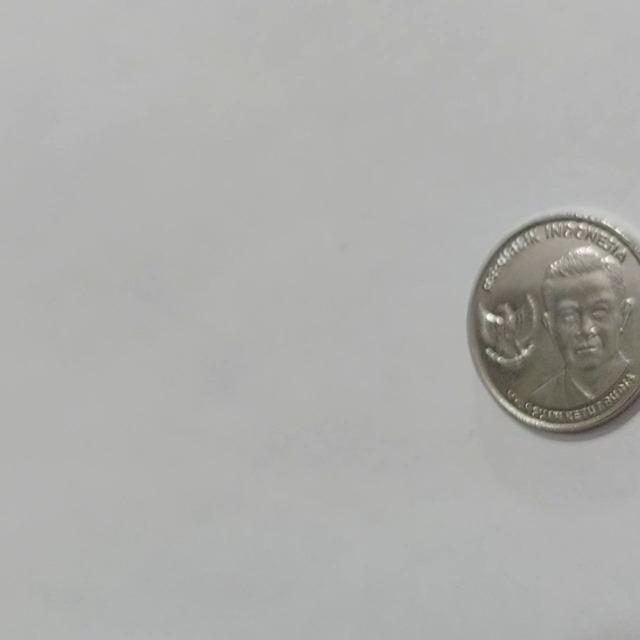Rp100: (466, 210, 640, 435)
